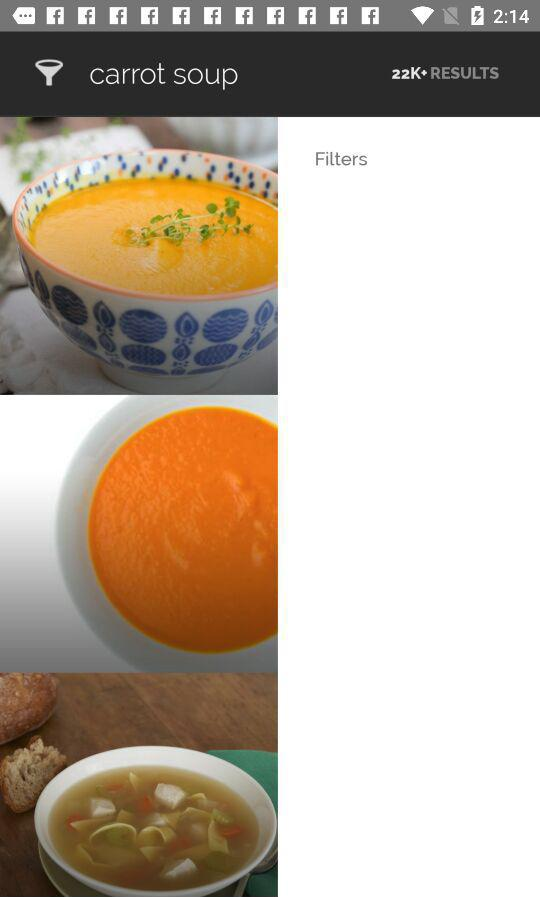Image: (1, 117, 279, 395), (1, 396, 278, 672), (1, 672, 279, 897), (34, 59, 65, 88)
Text: (90, 63, 239, 92), (391, 67, 500, 81), (316, 152, 368, 167)
Toolbar: (1, 33, 540, 117)
UpperTaskBar: (1, 1, 540, 33)
